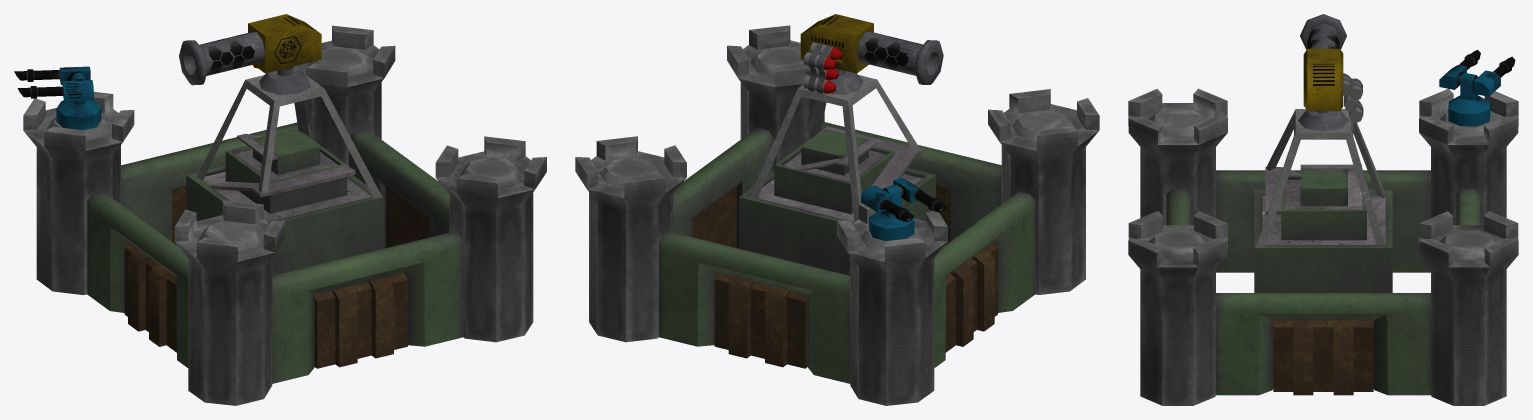
3 views of the same model, side by side, from view 1: azimuth 30°, elevation 25°; view 2: azimuth 150°, elevation 25°; view 3: azimuth 270°, elevation 25° (orthographic). The views are drawn at different scales.
Visible parts, largest first — view 1: base, BGUN_HEAD, BGUN_BODY, MGUN-barrel; view 2: base, BGUN_HEAD, BGUN_BODY, MGUN-barrel; view 3: base, BGUN_BODY, BGUN_HEAD, MGUN-barrel.
Boxes of the visible parts, left/top/right/bottom form: base: left=23, top=25, right=546, bottom=405; BGUN_HEAD: left=179, top=14, right=321, bottom=85; BGUN_BODY: left=197, top=66, right=381, bottom=197; MGUN-barrel: left=14, top=66, right=101, bottom=129; base: left=575, top=25, right=1099, bottom=405; BGUN_HEAD: left=800, top=14, right=943, bottom=94; BGUN_BODY: left=750, top=68, right=920, bottom=221; MGUN-barrel: left=861, top=177, right=946, bottom=240; base: left=1128, top=88, right=1518, bottom=405; BGUN_BODY: left=1256, top=109, right=1385, bottom=247; BGUN_HEAD: left=1300, top=14, right=1363, bottom=122; MGUN-barrel: left=1439, top=50, right=1515, bottom=126.
Bounding box in the file's own units: 769 × 604 × 746.
